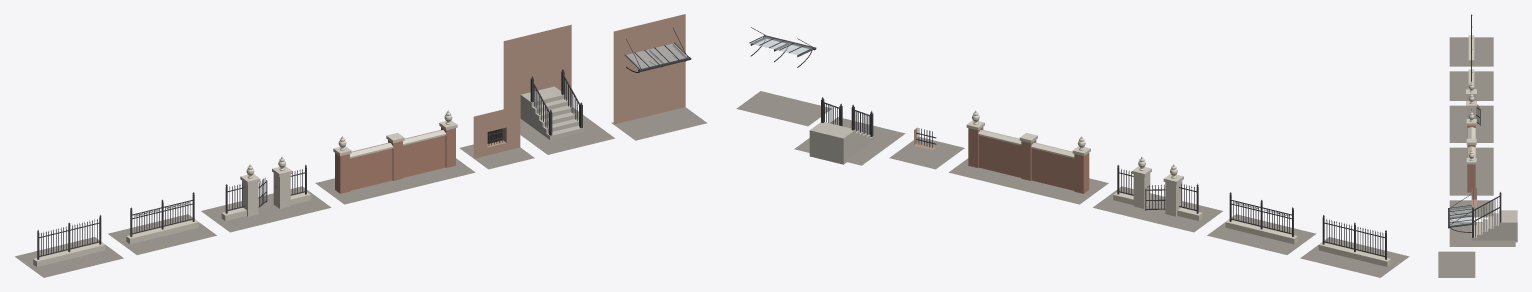
File: k11_ironwork_kit.glb
3 renders of one model, left to right at view 1: azimuth 30°, elevation 25°; view 2: azimuth 150°, elevation 25°; view 3: azimuth 270°, elevation 25°, orthographic. The views are drawn at different scales.
Visible parts, largest first — view 1: k11.canopy.iron_glass, k11.rail.stoop_rail, k11.wall.brick_with_piers, k11.gate.walk_gate_on_piers, k11.fence.scroll_band, k11.fence.spear_on_curb, k11.grille.basement_window; view 2: k11.wall.brick_with_piers, k11.gate.walk_gate_on_piers, k11.rail.stoop_rail, k11.fence.spear_on_curb, k11.fence.scroll_band, k11.canopy.iron_glass, k11.grille.basement_window; view 3: k11.wall.brick_with_piers, k11.rail.stoop_rail, k11.gate.walk_gate_on_piers, k11.canopy.iron_glass, k11.fence.spear_on_curb, k11.fence.scroll_band, k11.grille.basement_window.
Boxes of the visible parts, <box> form: k11.canopy.iron_glass: <box>611,14,707,140</box>; k11.rail.stoop_rail: <box>503,24,614,154</box>; k11.wall.brick_with_piers: <box>315,110,475,204</box>; k11.gate.walk_gate_on_piers: <box>201,156,331,232</box>; k11.fence.scroll_band: <box>108,192,216,254</box>; k11.fence.spear_on_curb: <box>15,215,123,277</box>; k11.grille.basement_window: <box>459,105,534,169</box>; k11.wall.brick_with_piers: <box>949,110,1108,204</box>; k11.gate.walk_gate_on_piers: <box>1093,156,1222,232</box>; k11.rail.stoop_rail: <box>794,97,905,165</box>; k11.fence.spear_on_curb: <box>1300,215,1409,277</box>; k11.fence.scroll_band: <box>1207,192,1316,254</box>; k11.canopy.iron_glass: <box>736,27,831,126</box>; k11.grille.basement_window: <box>889,127,964,169</box>; k11.wall.brick_with_piers: <box>1449,111,1493,195</box>; k11.rail.stoop_rail: <box>1449,192,1517,246</box>; k11.gate.walk_gate_on_piers: <box>1449,81,1493,142</box>; k11.canopy.iron_glass: <box>1438,194,1475,277</box>; k11.fence.spear_on_curb: <box>1449,14,1493,66</box>; k11.fence.scroll_band: <box>1449,48,1493,100</box>; k11.grille.basement_window: <box>1449,188,1493,217</box>.
Size of the model in its own units: 31 by 4.35 by 4.3.
